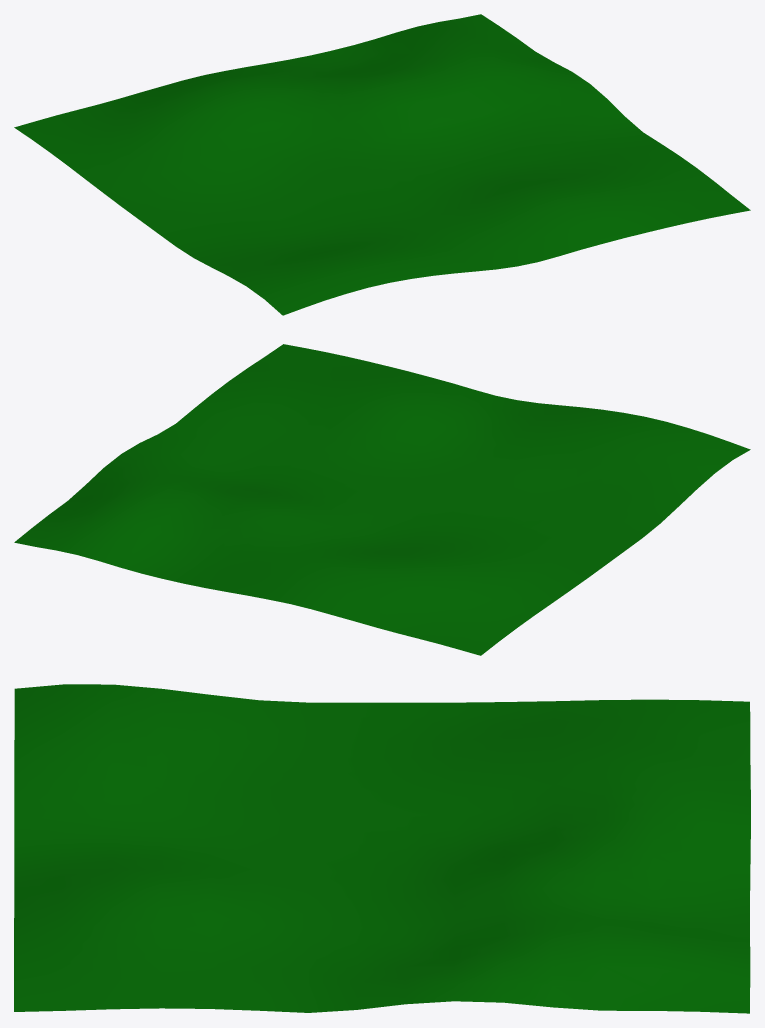
Rendered from mainmenu_Scene.fbx.
The picture shows the model from 3 angles, top to bottom: view 1: azimuth 30°, elevation 25°; view 2: azimuth 150°, elevation 25°; view 3: azimuth 270°, elevation 25°; orthographic projection. The views are drawn at different scales.
Parts seen in each view (by area): view 1: Plane; view 2: Plane; view 3: Plane.
Part boxes in pixels (x1,y1,x2,y2): Plane: (14,14,750,315); Plane: (14,344,750,655); Plane: (14,684,750,1013).
Bounding box in the file's own units: 4619 × 199 × 4610.
